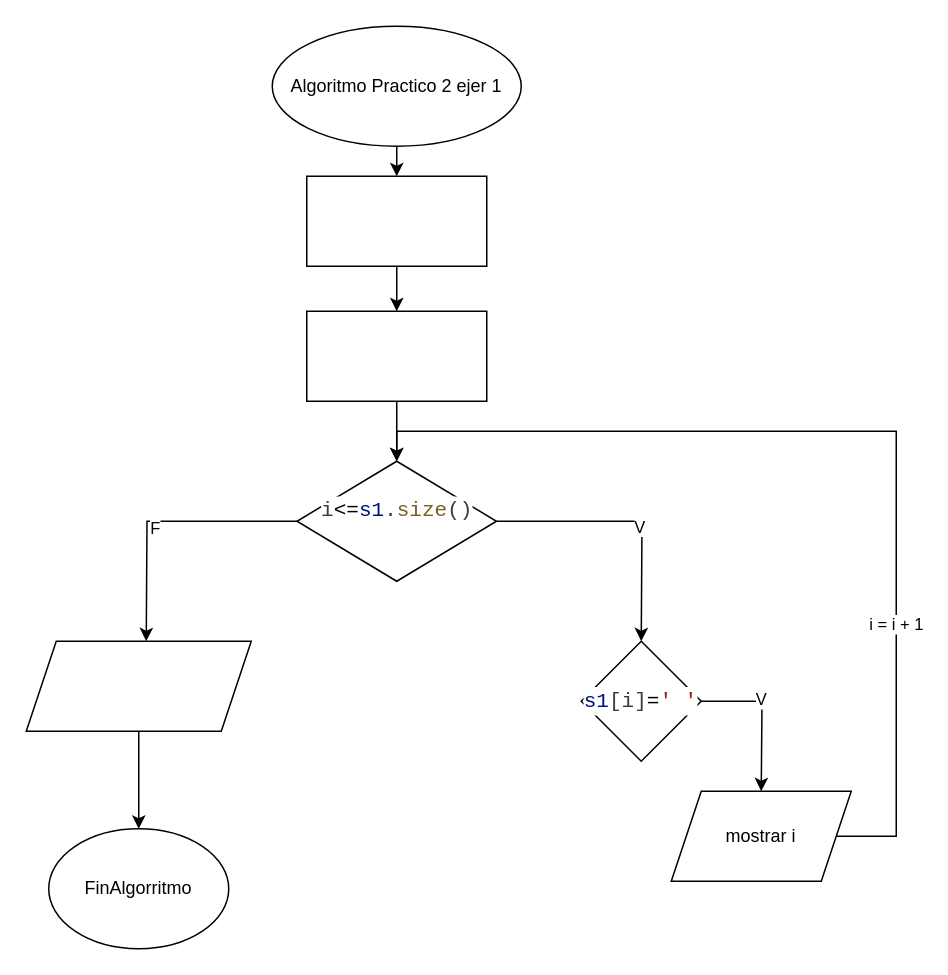
Image size: 948x975. Some labels were removed from this diagram. Each missing label, with the centre of its shape:
definir i = 0: (x=396, y=355)
entrada string s1: (x=396, y=220)
mostrar s1 . size (): (x=138, y=685)
